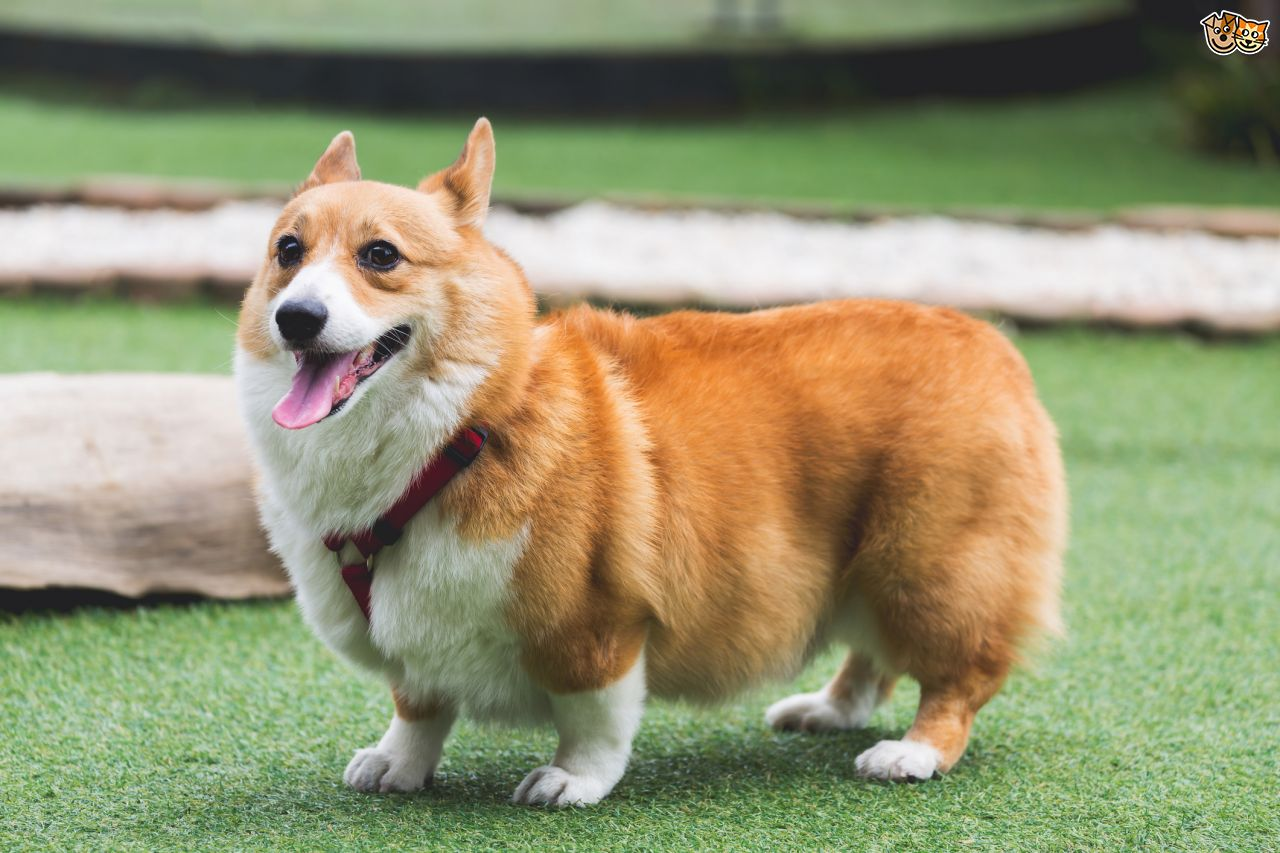dog: (232, 118, 1074, 810)
